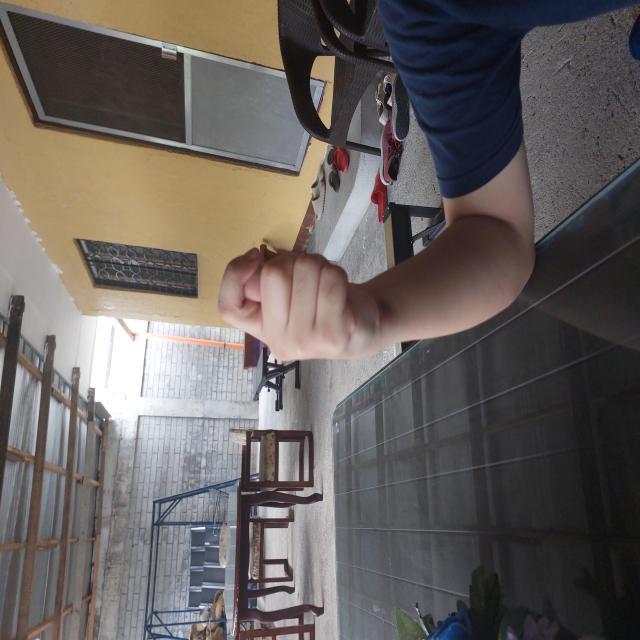T: (276, 215, 396, 388)
